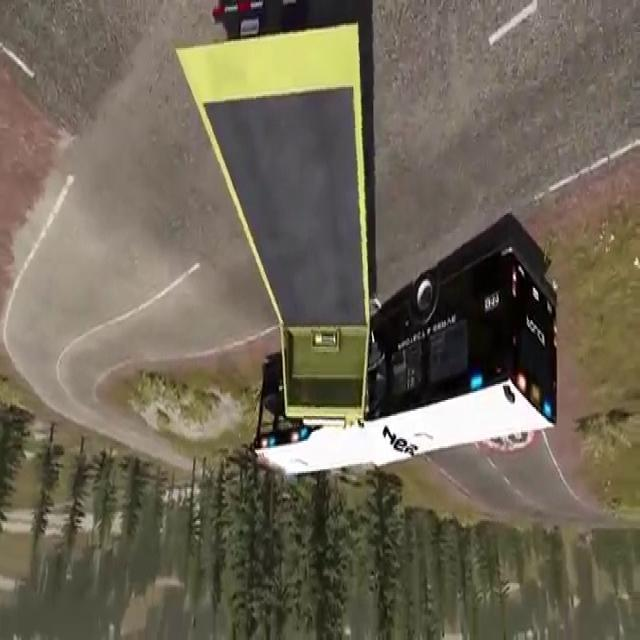severe: (161, 0, 569, 498)
